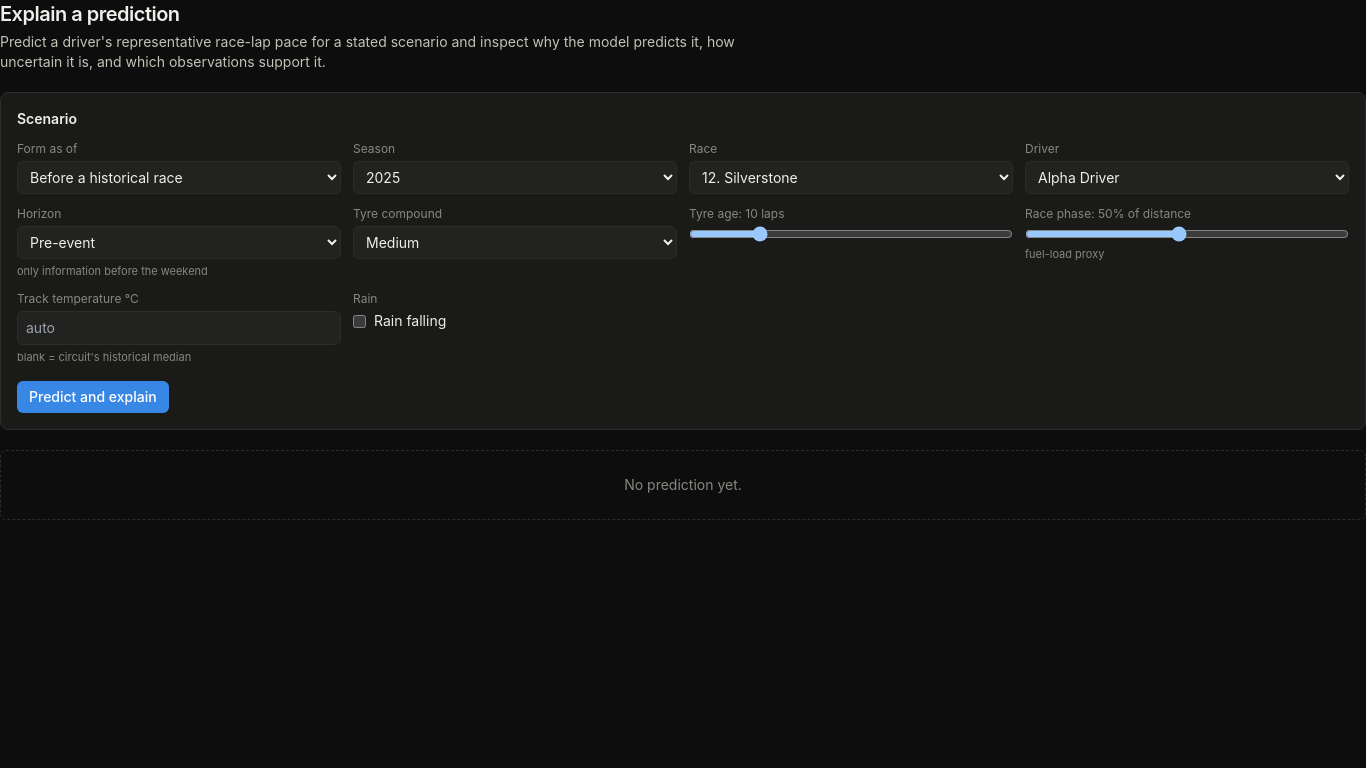
Test case: Explain a prediction › shows prediction, uncertainty, evidence, warnings and model version
Click the button "Predict and explain".
click(93, 397)  # box [17, 381, 169, 413]
(page scrolled)
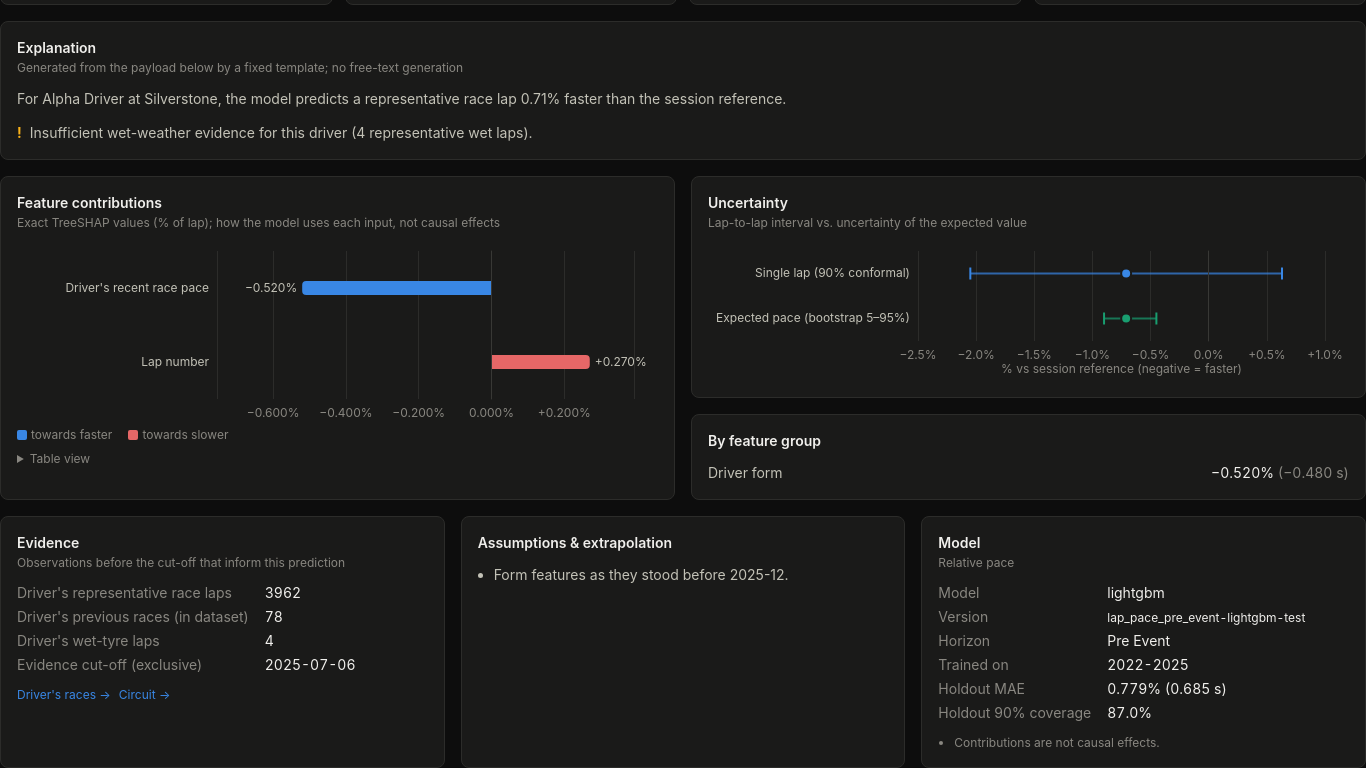
Now the text "0.71% faster than the session reference" is shown, box [17, 90, 786, 107]
Now the text "3962" is shown, box [265, 584, 301, 601]
Now the list item "Insufficient wet-weather evidence" is shown, box [30, 124, 532, 141]
